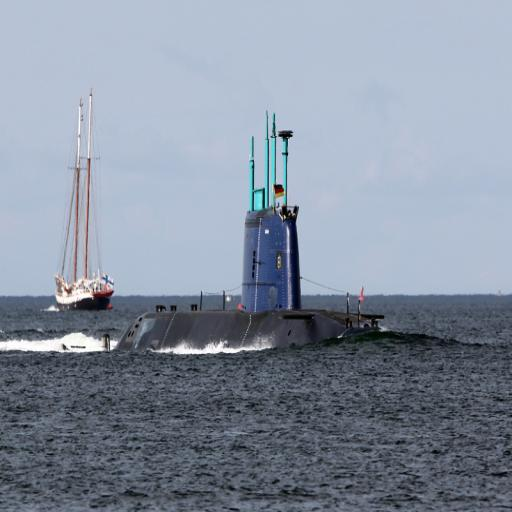submarine: (104, 111, 400, 354)
